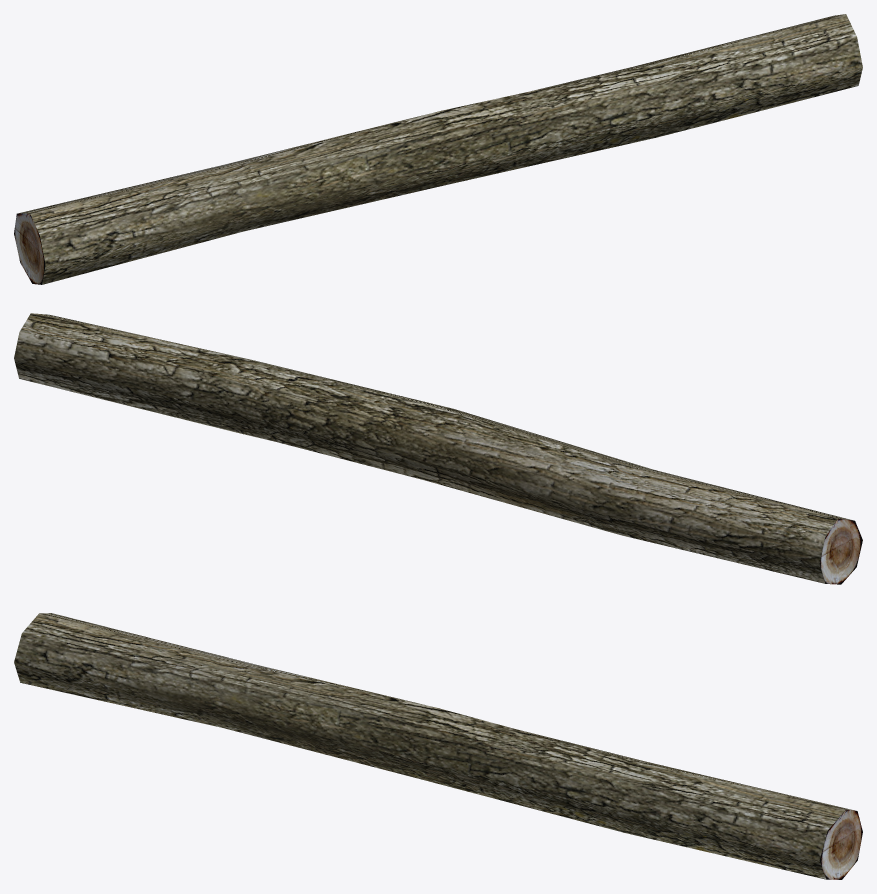
Rendered from one_log.obj.
3 views of the same model, one above another, from view 1: azimuth 30°, elevation 25°; view 2: azimuth 150°, elevation 25°; view 3: azimuth 330°, elevation 25° (orthographic).
Visible parts, largest first — view 1: Logs; view 2: Logs; view 3: Logs.
Part boxes in pixels (<box>): Logs: <box>14,14,862,284</box>; Logs: <box>14,313,862,584</box>; Logs: <box>14,613,862,879</box>.
Bounding box in the file's own units: 101 × 8.94 × 9.78.
Materials: 1 (1 with a texture image).
